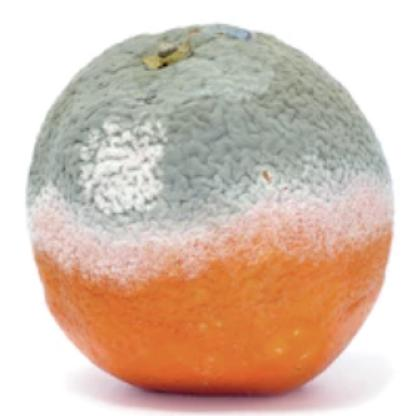rotten: (24, 23, 392, 395)
